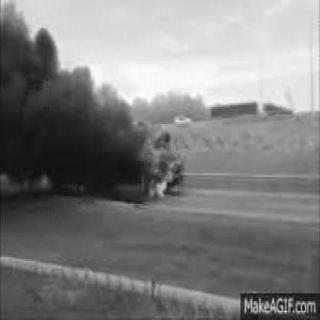Smoke: (0, 0, 128, 179)
